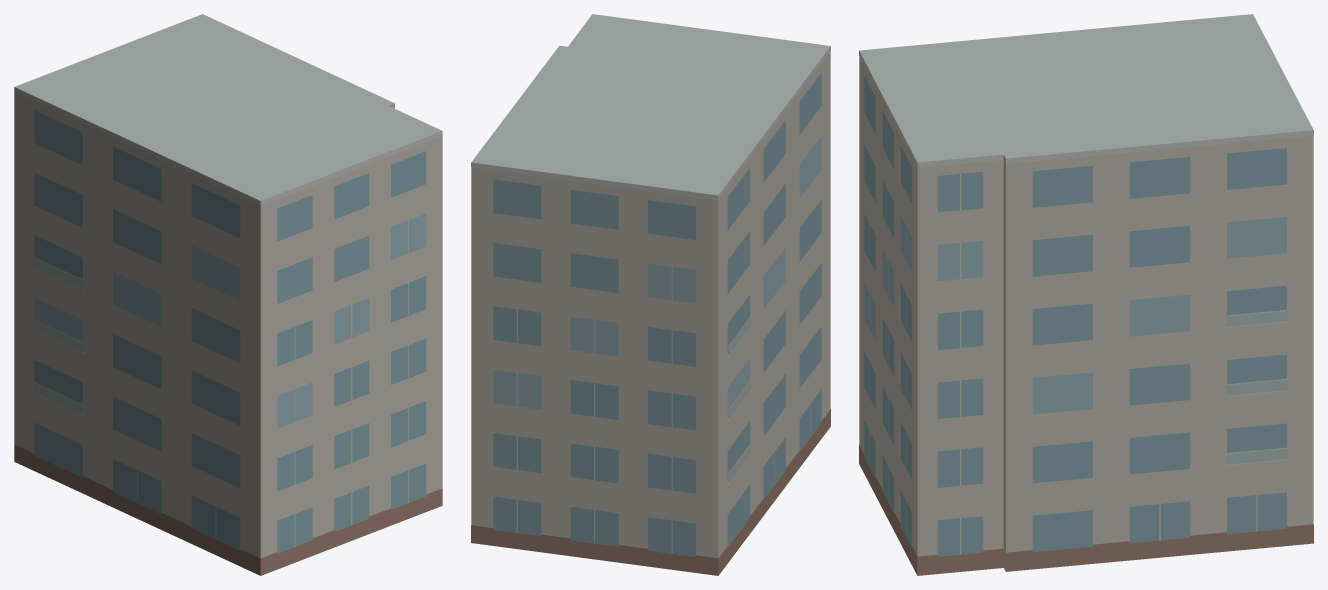
File: survey-upis-32720035.glb
3 views of the same model, side by side, from view 1: azimuth 30°, elevation 25°; view 2: azimuth 150°, elevation 25°; view 3: azimuth 270°, elevation 25° (orthographic). The views are drawn at different scales.
Visible parts, largest first — view 1: survey-upis-32720035.tmp; view 2: survey-upis-32720035.tmp; view 3: survey-upis-32720035.tmp.
Boxes of the visible parts, bbox=[...] form: survey-upis-32720035.tmp: bbox=[14, 14, 442, 575]; survey-upis-32720035.tmp: bbox=[471, 14, 830, 575]; survey-upis-32720035.tmp: bbox=[859, 14, 1313, 575].
Bounding box in the file's own units: 14.35 × 18.6 × 18.55.
